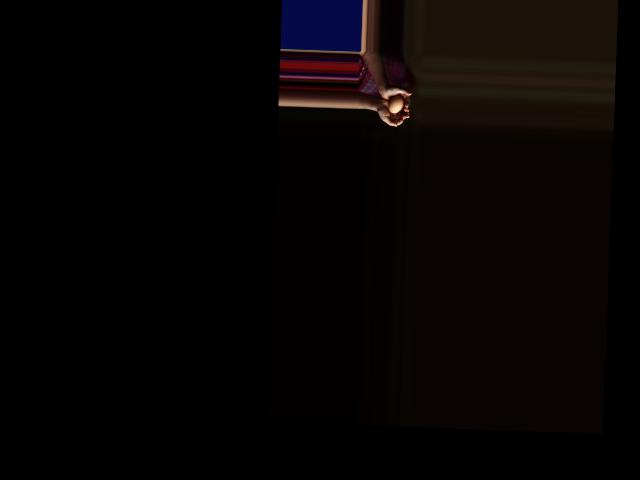egg: (388, 94, 404, 113)
